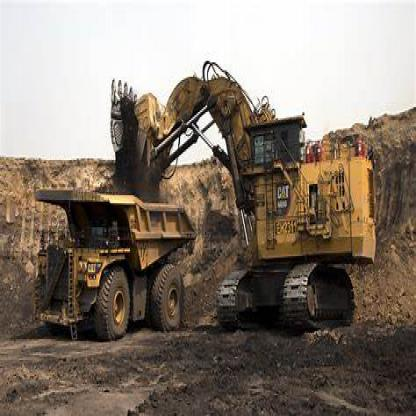dump_truck: (29, 154, 190, 342)
excavator: (81, 24, 388, 357)
